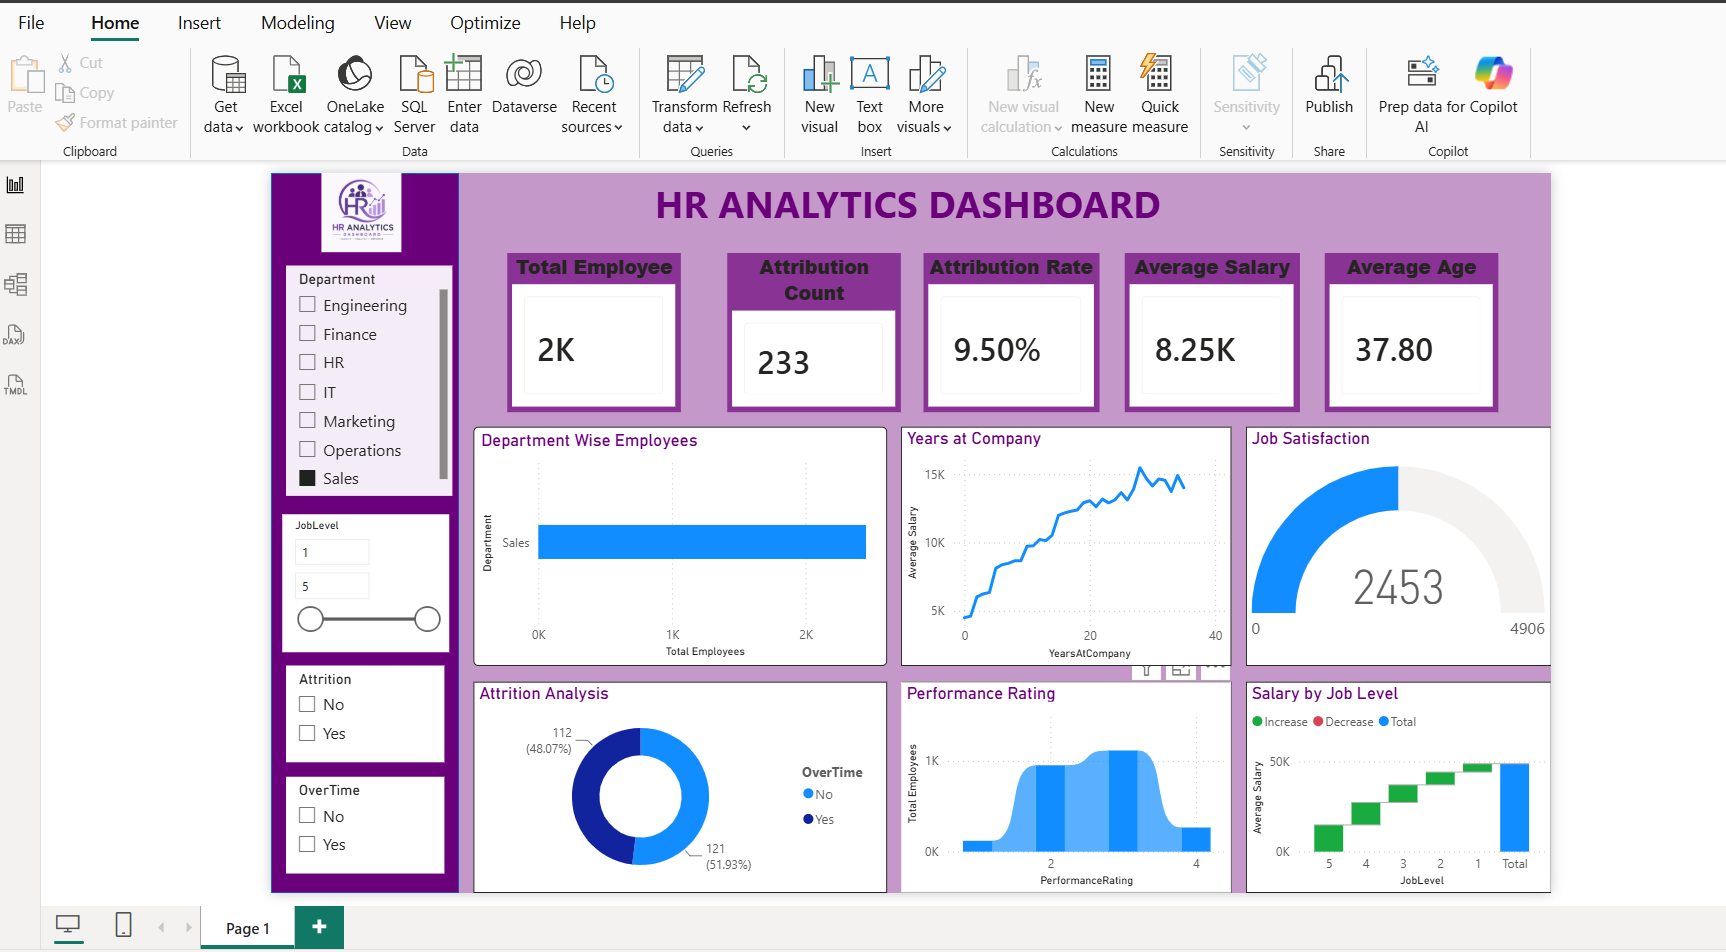

Layout of this report page (visuals, bound fields, positions):
{"tool":"powerbi","page":{"name":"Page 1","canvas":[1280,720],"ordinal":0},"visuals":[{"type":"textbox","box":[323.8,0,629.8,60.4],"z":0},{"type":"shape","box":[0,0,188.2,720.2],"z":1000},{"type":"cardVisual","title":"Total  Employee","fields":{"Data":["Sheet1.Total Employees"]},"box":[236.5,79.6,173.7,159.3],"z":2000},{"type":"cardVisual","title":"Attribution Count","fields":{"Data":["Sheet1.Attrition Count"]},"box":[456,79.6,173.7,159.3],"z":3000},{"type":"cardVisual","title":"Attribution Rate","fields":{"Data":["Sheet1.Attrition Rate"]},"box":[652.6,79.5,175.6,159],"z":4000},{"type":"cardVisual","title":"Average Salary","fields":{"Data":["Sheet1.Average Salary"]},"box":[854.2,79.6,174.9,159.3],"z":5000},{"type":"cardVisual","title":"Average Age","fields":{"Data":["Sheet1.Average Age"]},"box":[1053.2,79.6,173.7,159.3],"z":6000},{"type":"clusteredBarChart","title":"Department Wise Employees","fields":{"Category":["Sheet1.Department"],"Y":["Sheet1.Total Employees"]},"box":[202.7,253.4,413.8,238.9],"z":7000},{"type":"waterfallChart","title":"Salary by Job Level","fields":{"Category":["Sheet1.JobLevel"],"Y":["Sheet1.Average Salary"]},"box":[974.8,509.1,305.2,211.1],"z":8000},{"type":"ribbonChart","title":"Performance Rating","fields":{"Category":["Sheet1.PerformanceRating"],"Y":["Sheet1.Total Employees"]},"box":[629.8,509.1,330.6,211.1],"z":9000},{"type":"lineChart","title":"Years at Company","fields":{"Category":["Sheet1.YearsAtCompany"],"Y":["Sheet1.Average Salary"]},"box":[629.8,253.4,330.6,238.9],"z":10000},{"type":"gauge","fields":{"Y":["Sheet1.Total Employees"]},"box":[974.8,253.4,305.2,238.9],"z":11000},{"type":"slicer","fields":{"Values":["Sheet1.Department"]},"box":[14.5,92.9,166.5,230.4],"z":12000},{"type":"slicer","fields":{"Values":["Sheet1.JobLevel"]},"box":[10.9,341.4,166.5,137.5],"z":13000},{"type":"slicer","fields":{"Values":["Sheet1.Attrition"]},"box":[14.5,492.2,158,96.5],"z":14000},{"type":"slicer","fields":{"Values":["Sheet1.OverTime"]},"box":[14.5,603.2,158,96.5],"z":15000},{"type":"donutChart","title":"Attrition Analysis","fields":{"Category":["Sheet1.OverTime"],"Y":["Sheet1.Attrition Count"]},"box":[202.7,509.1,413.8,211.1],"z":16000},{"type":"image","box":[0,0,180.8,79.5],"z":17000}]}

Visuals, with their boxes on the page's 1280x720 design canvas (x1, y1, x2, y2). These are canvas units, not pixel positions in the 1726x952 screenshot, which may show the page scaled, cropped or inside an application window:
textbox: bbox=[324, 0, 954, 60]
shape: bbox=[0, 0, 188, 720]
"Total  Employee" cardVisual: bbox=[236, 80, 410, 239]
"Attribution Count" cardVisual: bbox=[456, 80, 630, 239]
"Attribution Rate" cardVisual: bbox=[653, 80, 828, 238]
"Average Salary" cardVisual: bbox=[854, 80, 1029, 239]
"Average Age" cardVisual: bbox=[1053, 80, 1227, 239]
"Department Wise Employees" clusteredBarChart: bbox=[203, 253, 616, 492]
"Salary by Job Level" waterfallChart: bbox=[975, 509, 1280, 720]
"Performance Rating" ribbonChart: bbox=[630, 509, 960, 720]
"Years at Company" lineChart: bbox=[630, 253, 960, 492]
gauge - Sheet1.Total Employees: bbox=[975, 253, 1280, 492]
slicer - Sheet1.Department: bbox=[14, 93, 181, 323]
slicer - Sheet1.JobLevel: bbox=[11, 341, 177, 479]
slicer - Sheet1.Attrition: bbox=[14, 492, 172, 589]
slicer - Sheet1.OverTime: bbox=[14, 603, 172, 700]
"Attrition Analysis" donutChart: bbox=[203, 509, 616, 720]
image: bbox=[0, 0, 181, 80]
